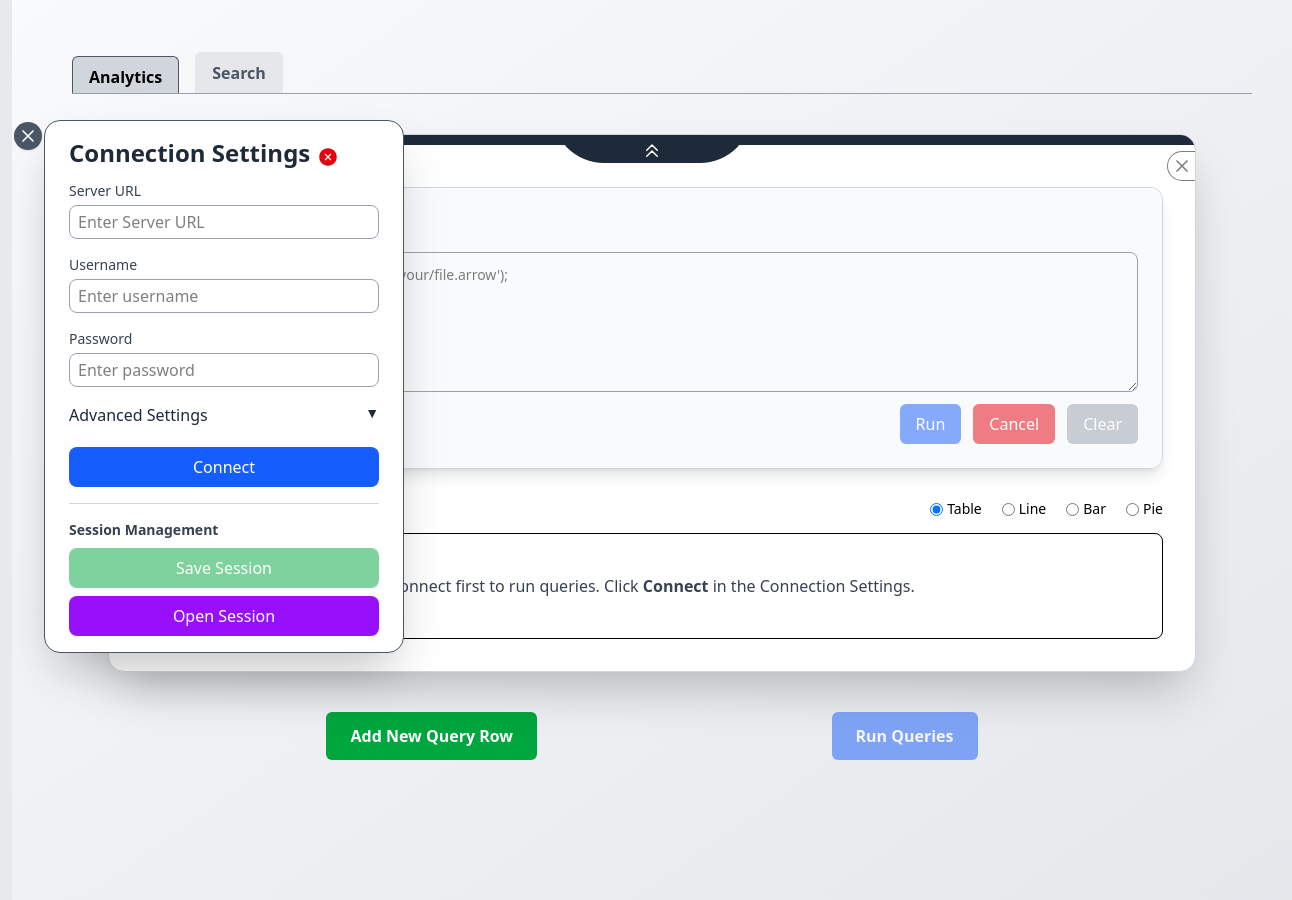
Test: Logging Component Integration Tests › should show validation errors if required fields are missing
The image size is (1292, 900).
Click the button "Connect" at [224, 467], box [69, 447, 379, 487]
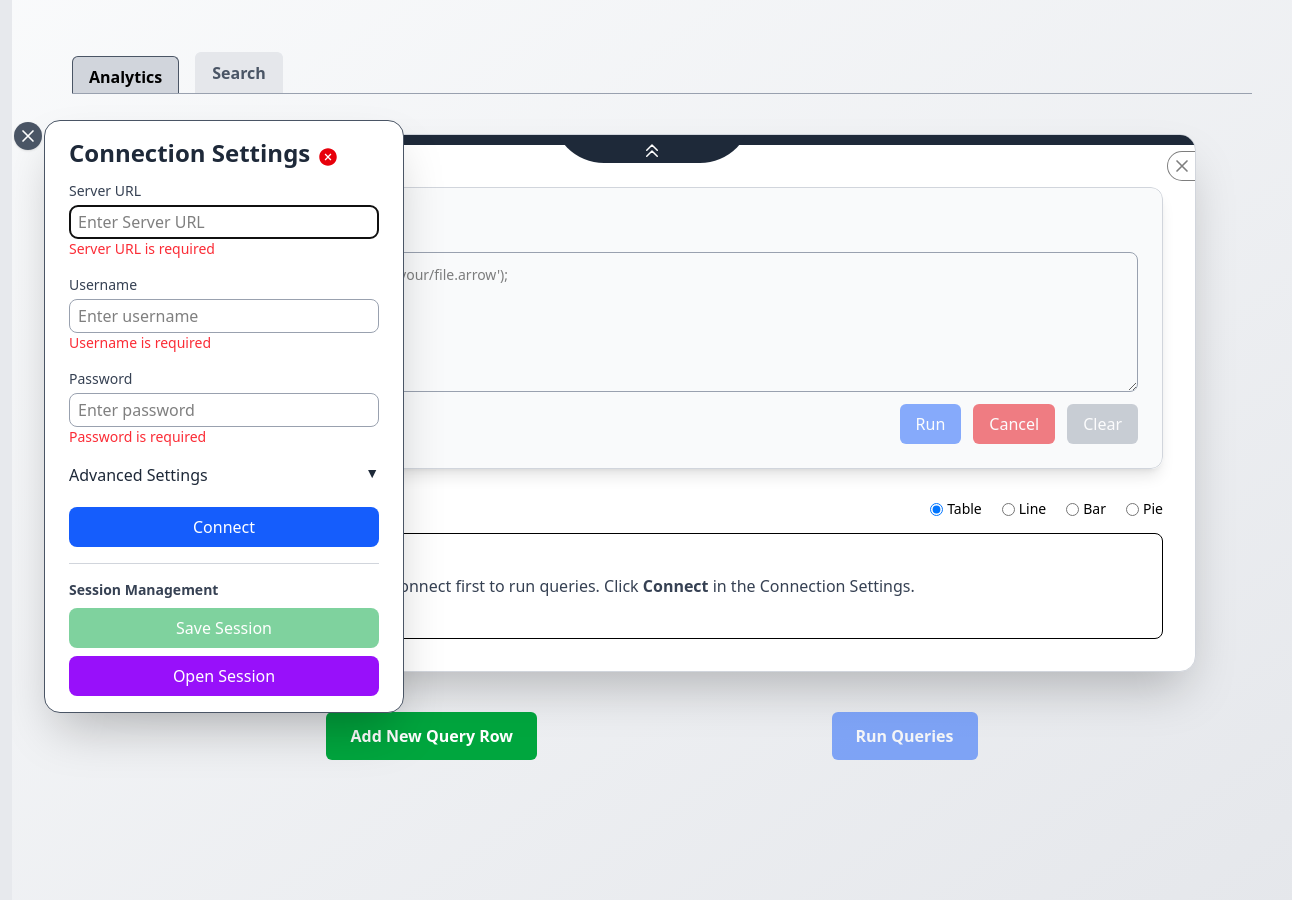
expect the text "Server URL is required" is shown: met, box [69, 239, 215, 258]
expect the text "Username is required" is shown: met, box [69, 333, 211, 352]
expect the text "Password is required" is shown: met, box [69, 427, 206, 446]
